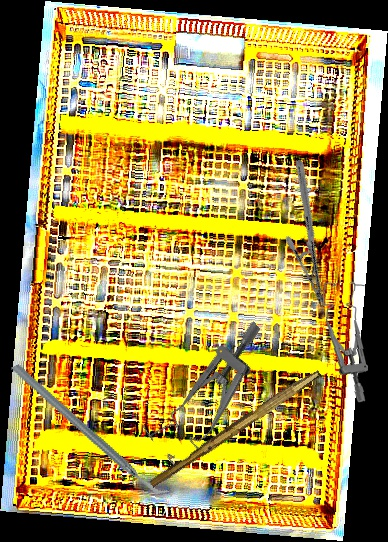Chopper: (9, 327, 174, 533)
Needle Holder: (240, 158, 381, 309)
Scalpel Handle: (148, 364, 322, 492)
Speculum: (132, 319, 296, 470), (315, 278, 375, 404)
